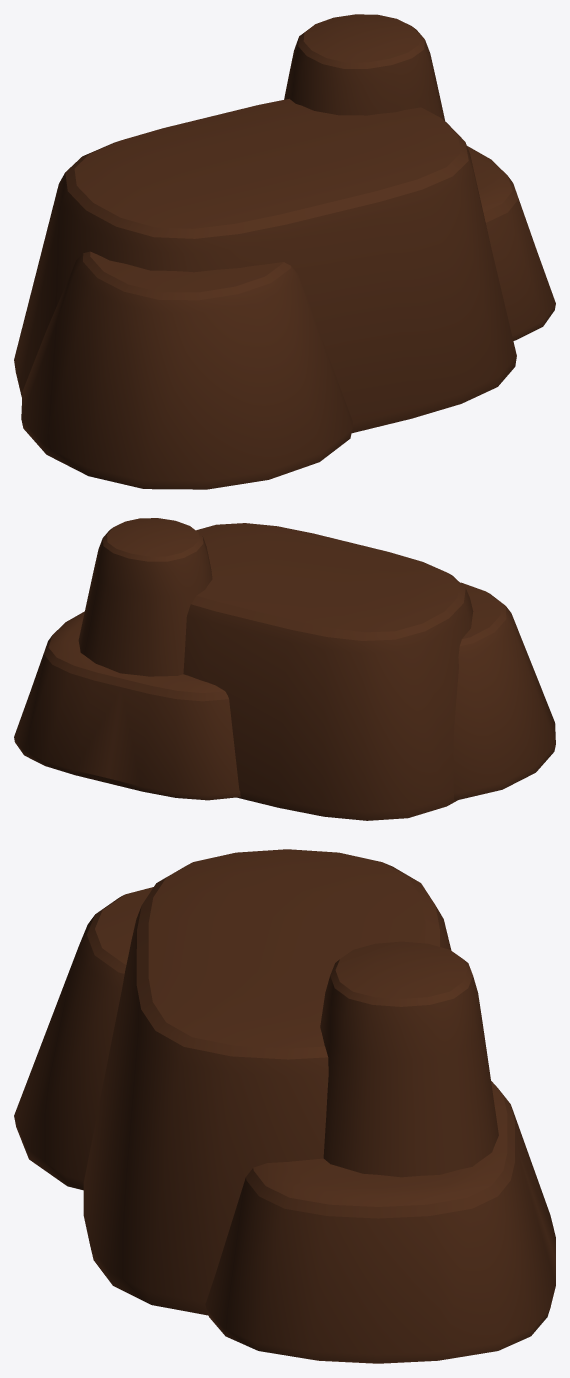
Rendered from RockPlatforms_2.fbx.
3 views of the same model, one above another, from view 1: azimuth 30°, elevation 25°; view 2: azimuth 150°, elevation 25°; view 3: azimuth 270°, elevation 25° (orthographic). The views are drawn at different scales.
Parts seen in each view (by area): view 1: RockPlatforms_2; view 2: RockPlatforms_2; view 3: RockPlatforms_2.
Boxes of the visible parts, x1,y1,x2,y2 form: RockPlatforms_2: (14, 14, 555, 489); RockPlatforms_2: (14, 518, 555, 820); RockPlatforms_2: (14, 849, 555, 1363).
Bounding box in the file's own units: 932 × 445 × 674.
